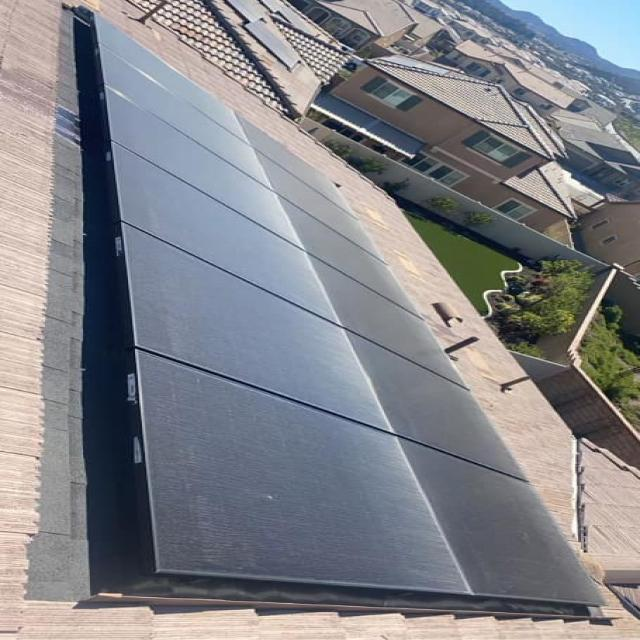dust-solar-panel: (88, 14, 473, 593)
